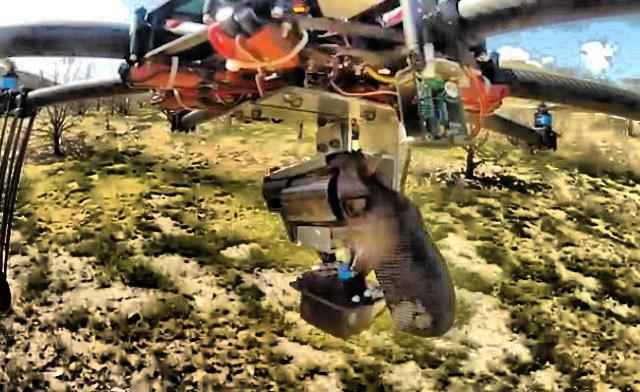pistol: (265, 166, 457, 344)
